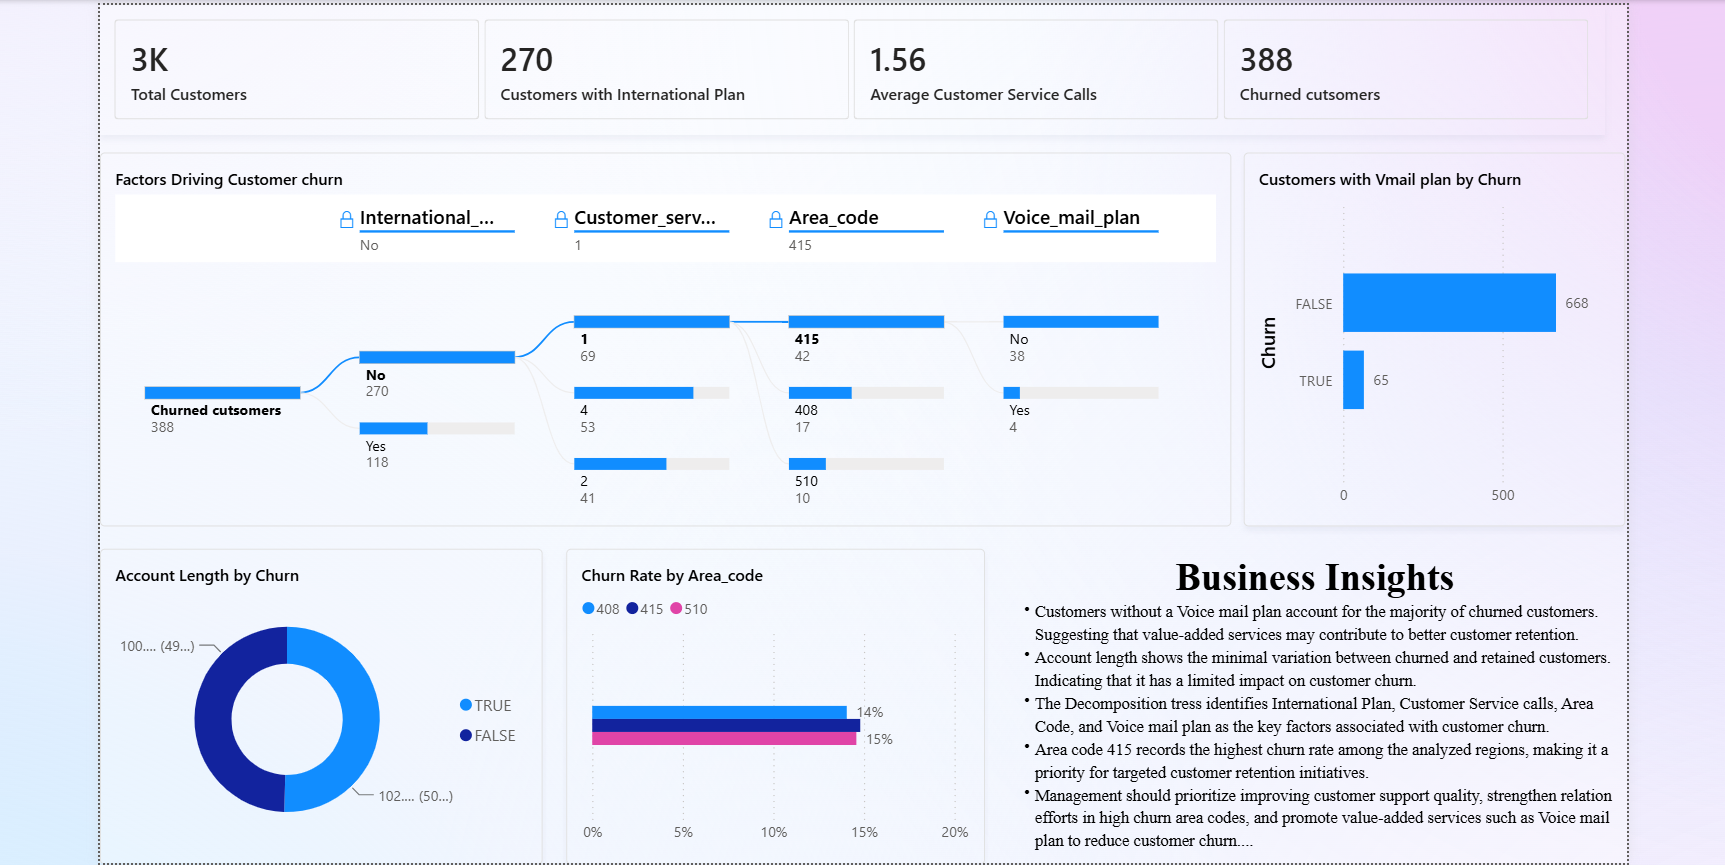

Layout of this report page (visuals, bound fields, positions):
{"tool":"powerbi","page":{"name":"Executive report","canvas":[1280,720],"ordinal":1},"visuals":[{"type":"cardVisual","fields":{"Data":["telecom_customer telecom.Total Customers","telecom_customer telecom.Customers with International Plan","telecom_customer telecom.Average Customer Service Calls","telecom_customer telecom.Churned cutsomers"]},"box":[0,0,1262.7,108.5],"z":0},{"type":"decompositionTreeVisual","title":"Factors Driving Customer churn","fields":{"Analyze":["telecom_customer telecom.Churned cutsomers"],"ExplainBy":["telecom_customer telecom.International_plan","telecom_customer telecom.Customer_service_calls","telecom_customer telecom.Area_code","telecom_customer telecom.Voice_mail_plan"]},"box":[0,123.7,949.2,313.6],"z":1000},{"type":"donutChart","fields":{"Category":["telecom_customer telecom.Churn"],"Y":["telecom_customer telecom.Account Length"]},"box":[0,455.9,371.2,264.4],"z":2000},{"type":"clusteredBarChart","fields":{"Y":["telecom_customer telecom.Churn Rate"],"Series":["telecom_customer telecom.Area_code"]},"box":[391.5,455.9,350.8,264.4],"z":3000},{"type":"clusteredBarChart","fields":{"Category":["telecom_customer telecom.Churn"],"Y":["telecom_customer telecom.Customers with Vmail plan"]},"box":[959.3,123.7,320.3,313.6],"z":4000},{"type":"textbox","box":[757.6,455.9,522,264.4],"z":5000}]}

Visuals, with their boxes on the page's 1280x720 design canvas (x1, y1, x2, y2). These are canvas units, not pixel positions in the 1725x865 screenshot, which may show the page scaled, cropped or inside an application window:
cardVisual - telecom_customer telecom.Total Customers x telecom_customer telecom.Customers with International Plan: (0,0,1263,108)
"Factors Driving Customer churn" decompositionTreeVisual: (0,124,949,437)
donutChart - telecom_customer telecom.Churn x telecom_customer telecom.Account Length: (0,456,371,720)
clusteredBarChart - telecom_customer telecom.Churn Rate x telecom_customer telecom.Area_code: (392,456,742,720)
clusteredBarChart - telecom_customer telecom.Churn x telecom_customer telecom.Customers with Vmail plan: (959,124,1280,437)
textbox: (758,456,1280,720)
